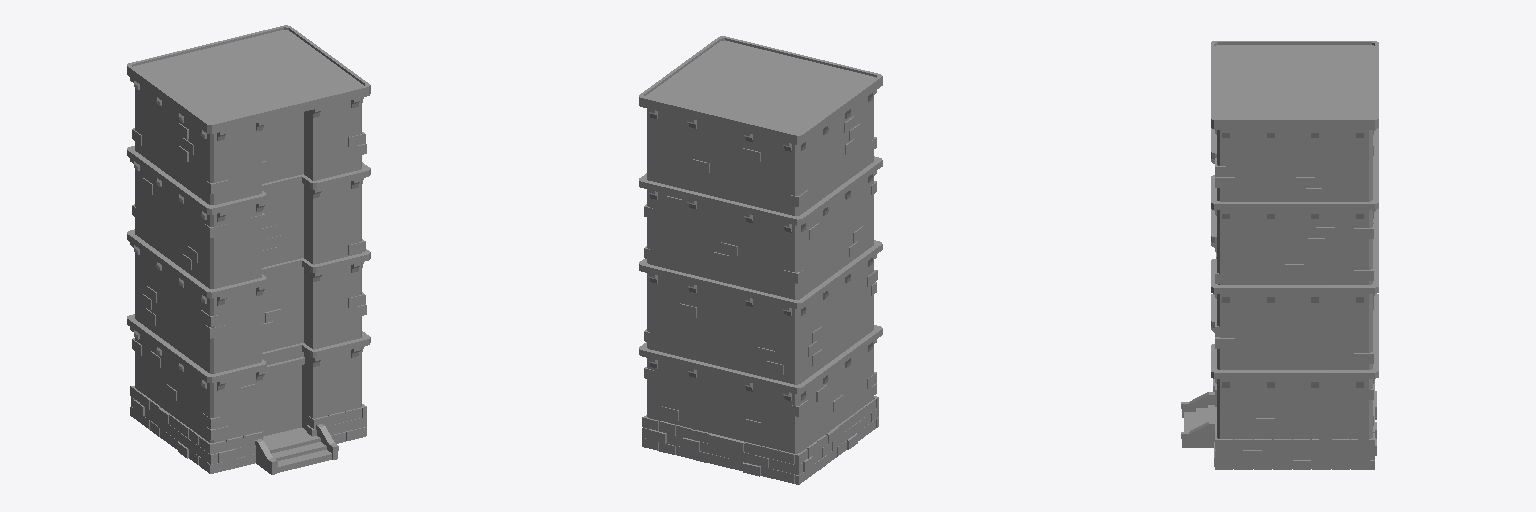
The model's file is 4Story_Center_Base.obj.
The picture shows the model from 3 angles: view 1: azimuth 30°, elevation 25°; view 2: azimuth 150°, elevation 25°; view 3: azimuth 270°, elevation 25°; orthographic projection.
Visible parts, largest first — view 1: 4Story_Center_Base_Cube.063; view 2: 4Story_Center_Base_Cube.063; view 3: 4Story_Center_Base_Cube.063.
Part boxes in pixels (x1,y1,x2,y2): 4Story_Center_Base_Cube.063: (127,25,370,474); 4Story_Center_Base_Cube.063: (639,36,882,484); 4Story_Center_Base_Cube.063: (1181,41,1378,469).
Bounding box in the file's own units: 2.42 × 4.96 × 2.53.